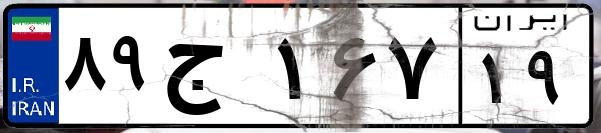1: (270, 28, 330, 110), (475, 38, 525, 113)
6: (330, 28, 385, 110)
7: (385, 28, 445, 110)
8: (57, 26, 110, 100)
9: (525, 38, 570, 115), (110, 28, 158, 98)
ج: (158, 20, 270, 120)
